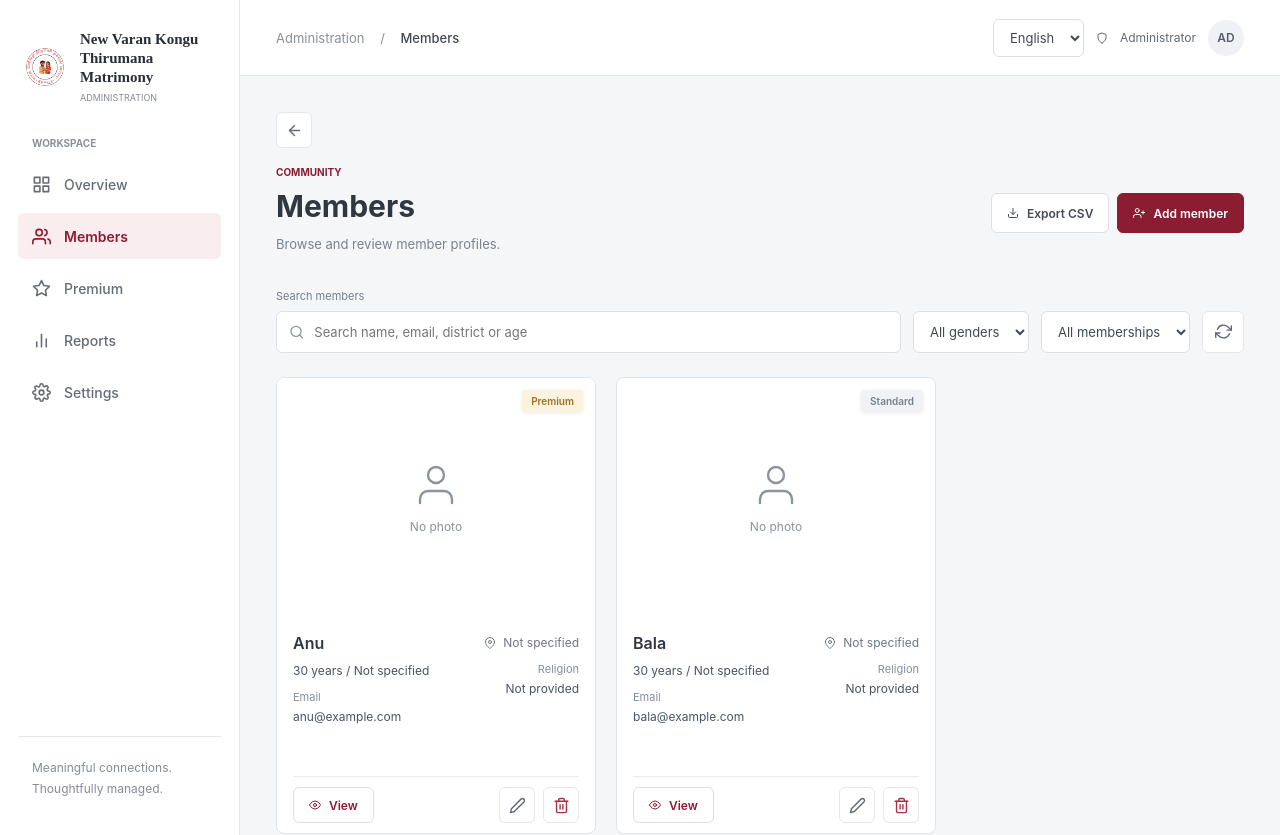
Test case: searches exact ages in members and premium directory without partial age matches
Check: the heading "Anu" is shown, box 293,633 -> 324,653
Type " 30 " into the field labelled "Search members" at [589, 332], box 314,312 -> 864,352
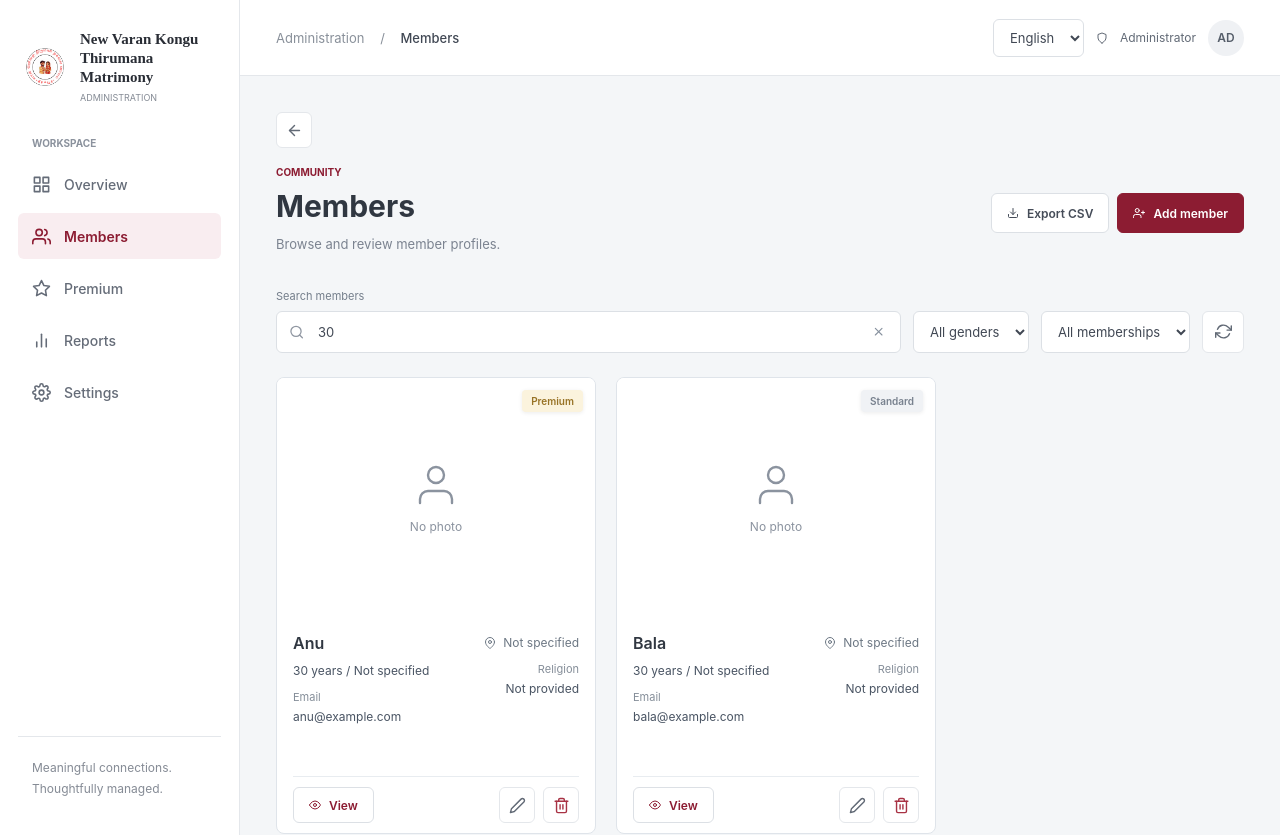
Check: the heading "Anu" is shown, box 293,633 -> 324,653
Check: the heading "Bala" is shown, box 633,633 -> 666,653
Replace the text in the field labelled "Search members" with "3" at [589, 332], box 314,312 -> 864,352
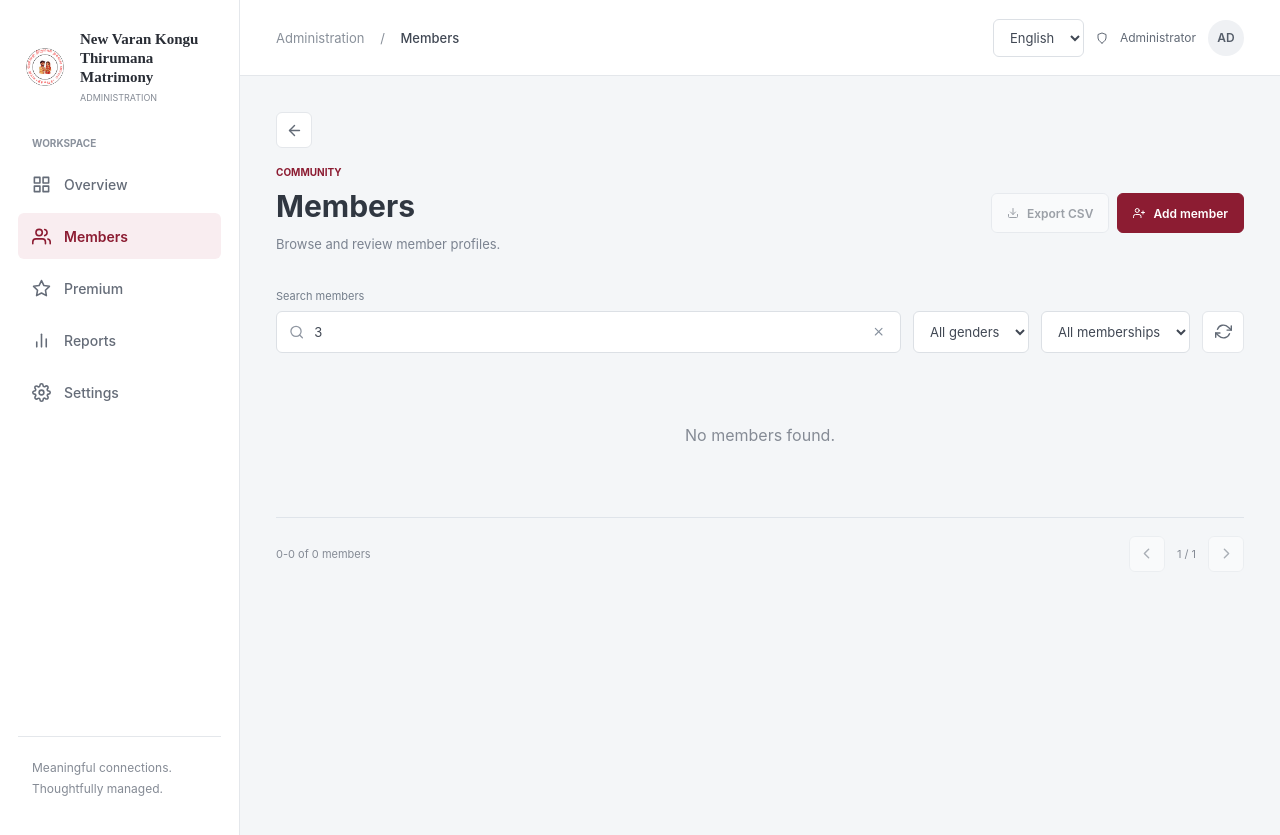
Check: the text "No members found." is shown, box 685,425 -> 835,445
Click the link "Premium" at [78, 288], box 32,279 -> 123,298
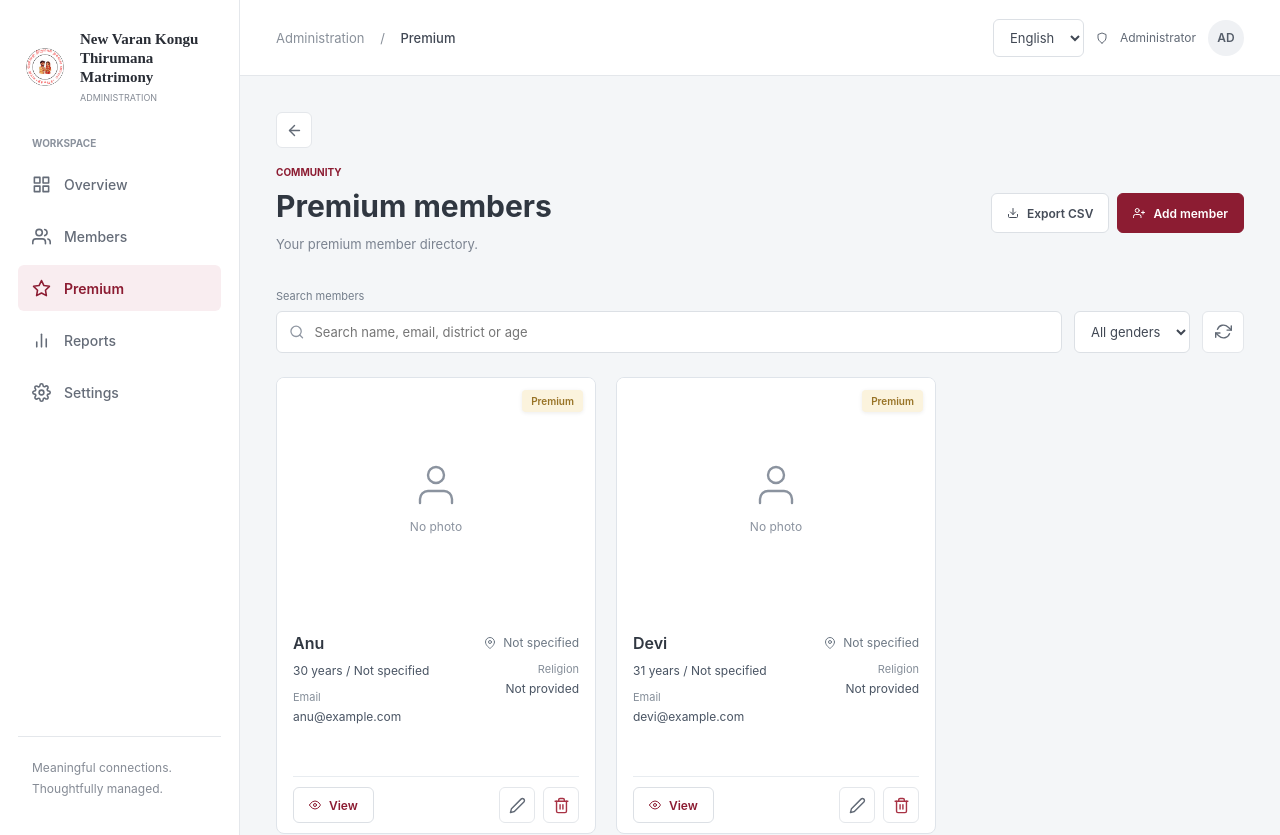
Type "30" into the field labelled "Search members" at [670, 332], box 314,312 -> 1025,352
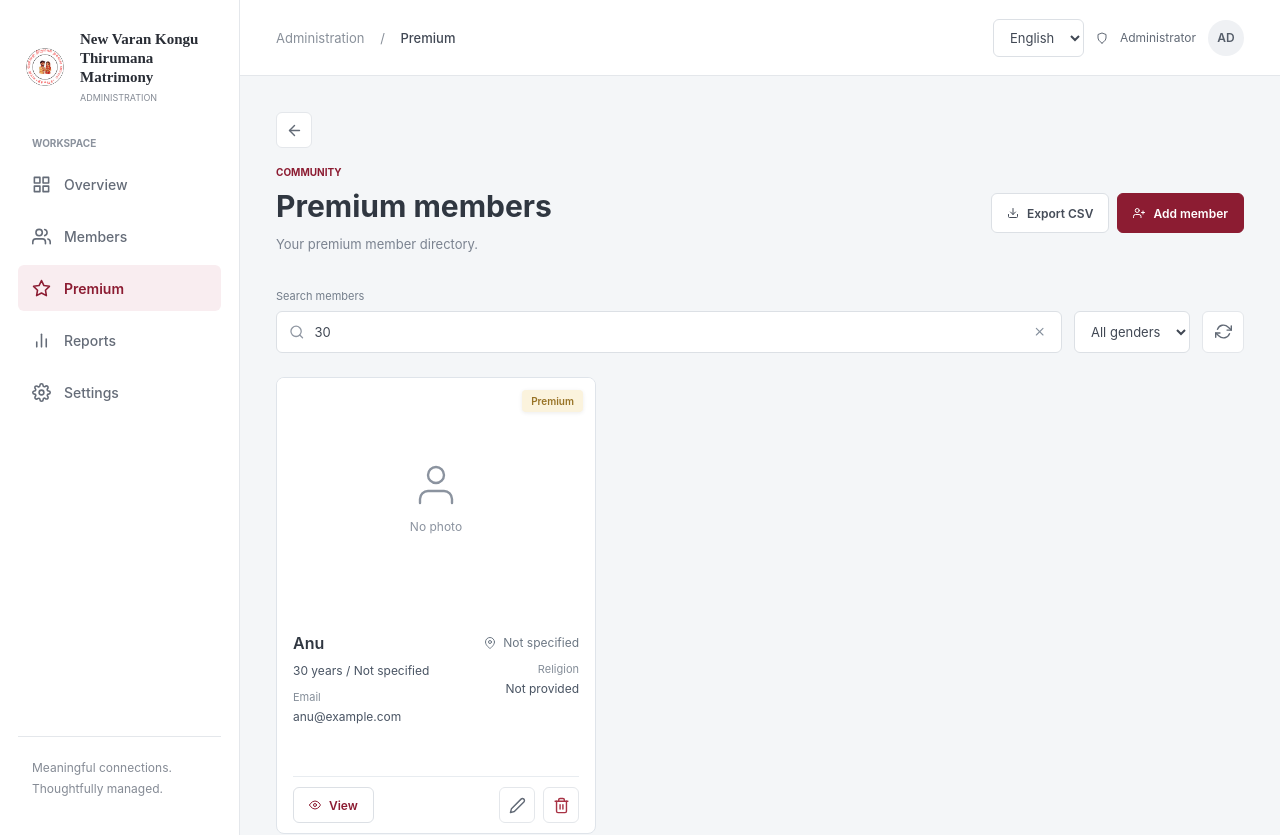
Check: the heading "Bala" is not shown
Check: the heading "Anu" is shown, box 293,633 -> 324,653
Check: the heading "Devi" is gone
